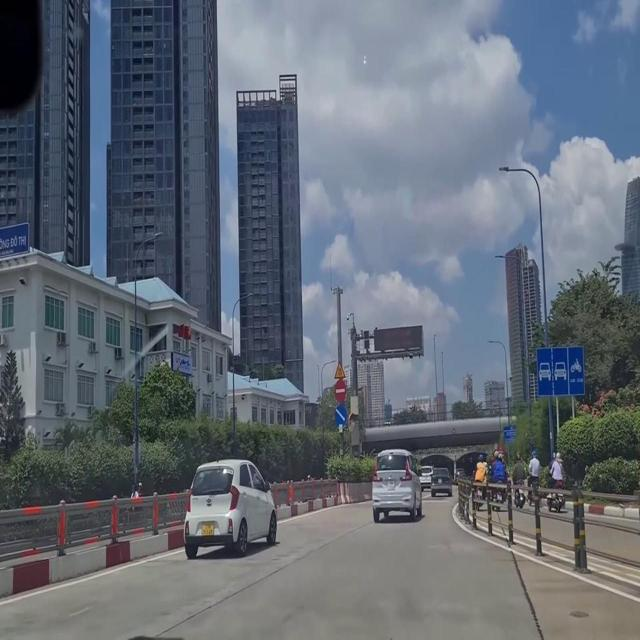Cấm đi ngược chiều: (333, 379, 349, 402)
Hướng phải đi vòng sang phải: (334, 403, 347, 424)
Khác: (503, 422, 521, 438)
Làn đường cho từng xe: (532, 340, 586, 402)
Đường hẹp: (330, 361, 347, 380)
